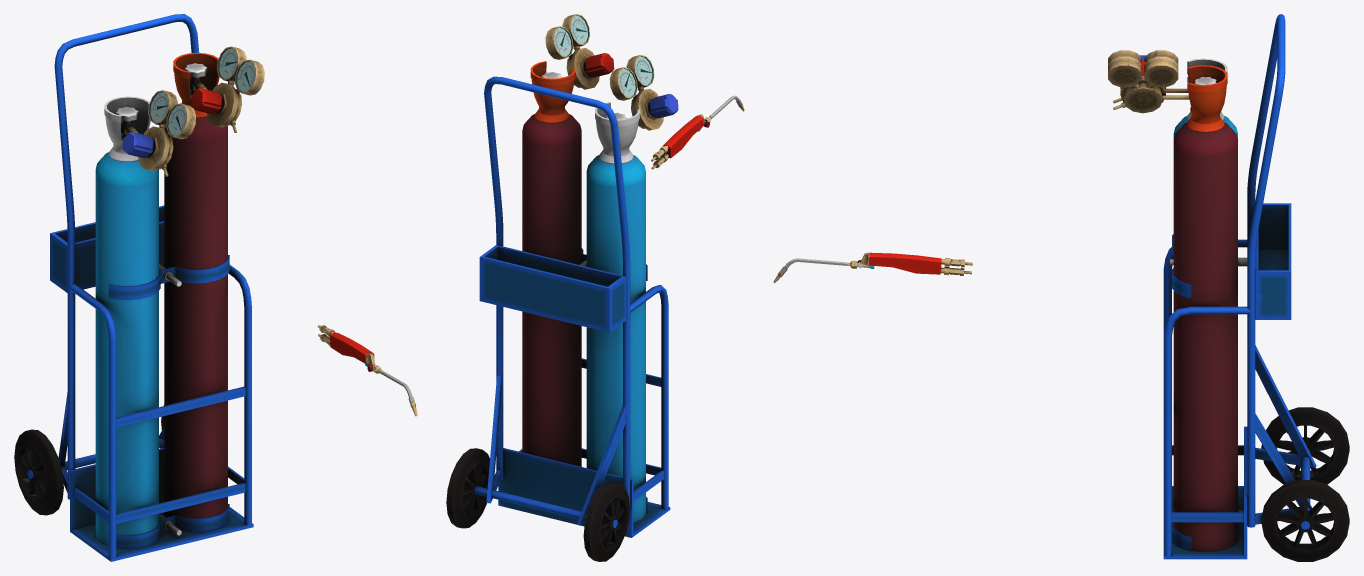
The model's file is Equipo de soldadura Autogena.FBX.
3 views of the same model, side by side, from view 1: azimuth 30°, elevation 25°; view 2: azimuth 150°, elevation 25°; view 3: azimuth 270°, elevation 25° (orthographic). The views are drawn at different scales.
Parts seen in each view (by area): view 1: Cilindro_001, Cilindro_002, Tubo_003, Caja, Tubo_001, Neumatico, Placa_inferior, Tubo_002, Soporte_001, plca_posterior, Soporte_002, Superior001 (+10 smaller); view 2: Cilindro_001, Cilindro_002, Caja, Tubo_003, plca_posterior, Neumatico, Tubo_001, Neumatico001, Superior, Superior001, Tubo_posterior_001, Eje_Ruedas (+15 smaller); view 3: Cilindro_001, Tubo_003, Caja, Neumatico001, Tubo_002, Neumatico, Superior, Tubo_posterior_001, Aro001, Base soplete, Placa_inferior, Cylinder011 (+6 smaller).
Boxes of the visible parts, box(x1,y1,x2,y2) form: Cilindro_001: box(164, 117, 227, 518); Cilindro_002: box(95, 152, 158, 545); Tubo_003: box(54, 14, 199, 499); Caja: box(50, 205, 164, 292); Tubo_001: box(68, 283, 116, 558); Neumatico: box(14, 429, 63, 515); Placa_inferior: box(70, 507, 253, 561); Tubo_002: box(228, 265, 251, 525); Soporte_001: box(108, 255, 229, 300); plca_posterior: box(70, 447, 164, 529); Soporte_002: box(116, 504, 229, 549); Superior001: box(104, 96, 150, 153); Cilindro_001: box(522, 114, 581, 466); Cilindro_002: box(586, 155, 645, 523); Caja: box(479, 245, 626, 332); Tubo_003: box(484, 76, 630, 508); plca_posterior: box(498, 448, 633, 535); Neumatico: box(583, 481, 629, 561); Tubo_001: box(630, 285, 668, 509); Neumatico001: box(446, 448, 489, 528); Superior: box(530, 61, 575, 115); Superior001: box(595, 102, 639, 156); Tubo_posterior_001: box(577, 405, 625, 525); Eje_Ruedas: box(474, 486, 617, 527); Cilindro_001: box(1173, 122, 1237, 551); Tubo_003: box(1247, 14, 1285, 527); Caja: box(1255, 203, 1291, 319); Neumatico001: box(1261, 480, 1349, 561); Tubo_002: box(1163, 306, 1250, 556); Neumatico: box(1261, 407, 1349, 484); Superior: box(1187, 65, 1227, 123); Tubo_posterior_001: box(1255, 345, 1316, 467); Aro001: box(1277, 498, 1333, 548); Base soplete: box(868, 252, 941, 274); Placa_inferior: box(1163, 486, 1247, 559); Cylinder011: box(1120, 76, 1165, 113).
Bounding box in the file's own units: 0.5914 × 1.66 × 1.76.
